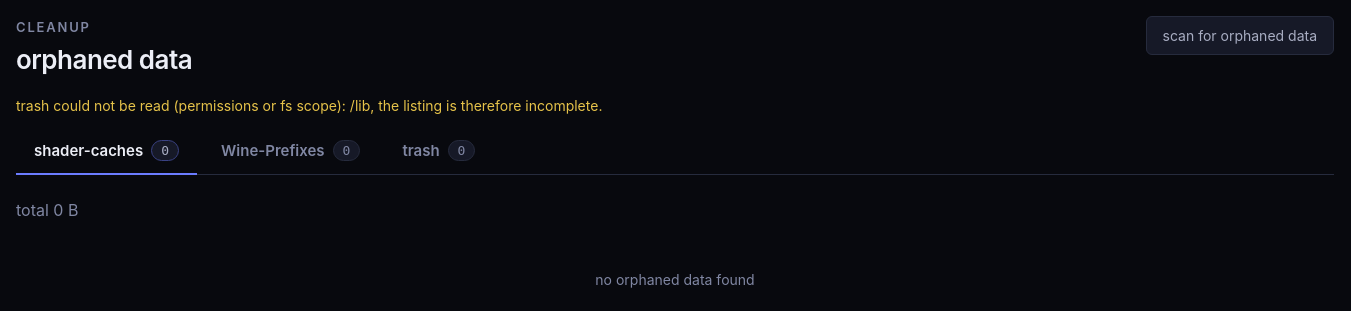
it: CleanupView incomplete deletions › leer-zustand erscheint nicht neben fehler (unlesbarer papierkorb)
Click the tab with id "cv-tab-trash" at coordinates (439, 151), box [384,128,493,174]
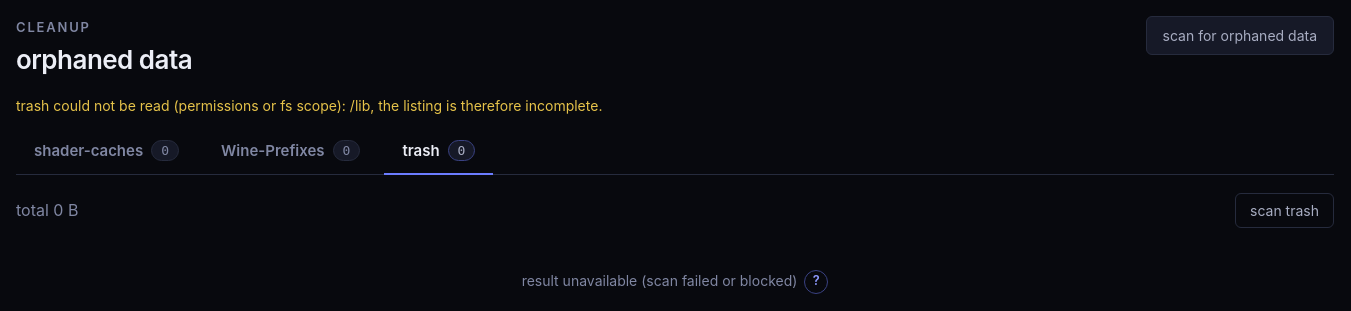
Expected: the text "result unavailable (scan failed or blocked)" is shown, [522,272,797,288]
